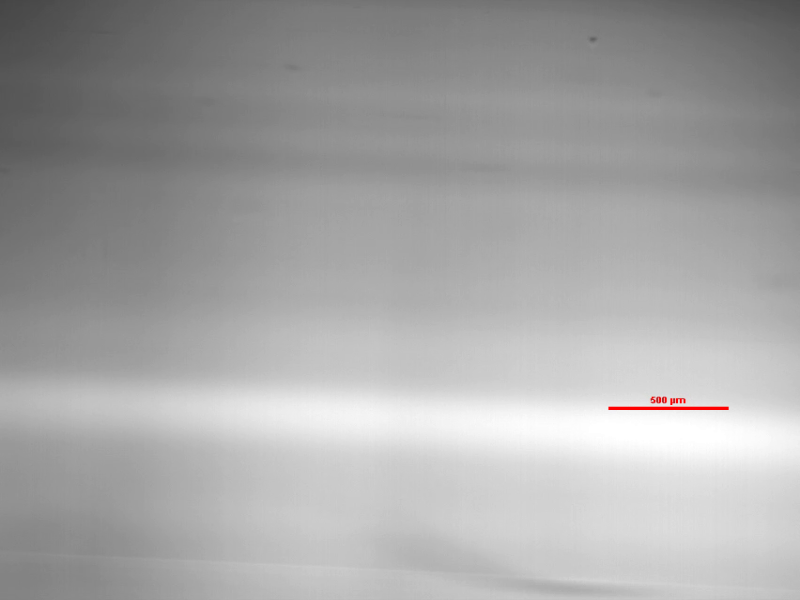size: (608, 391, 729, 421)
